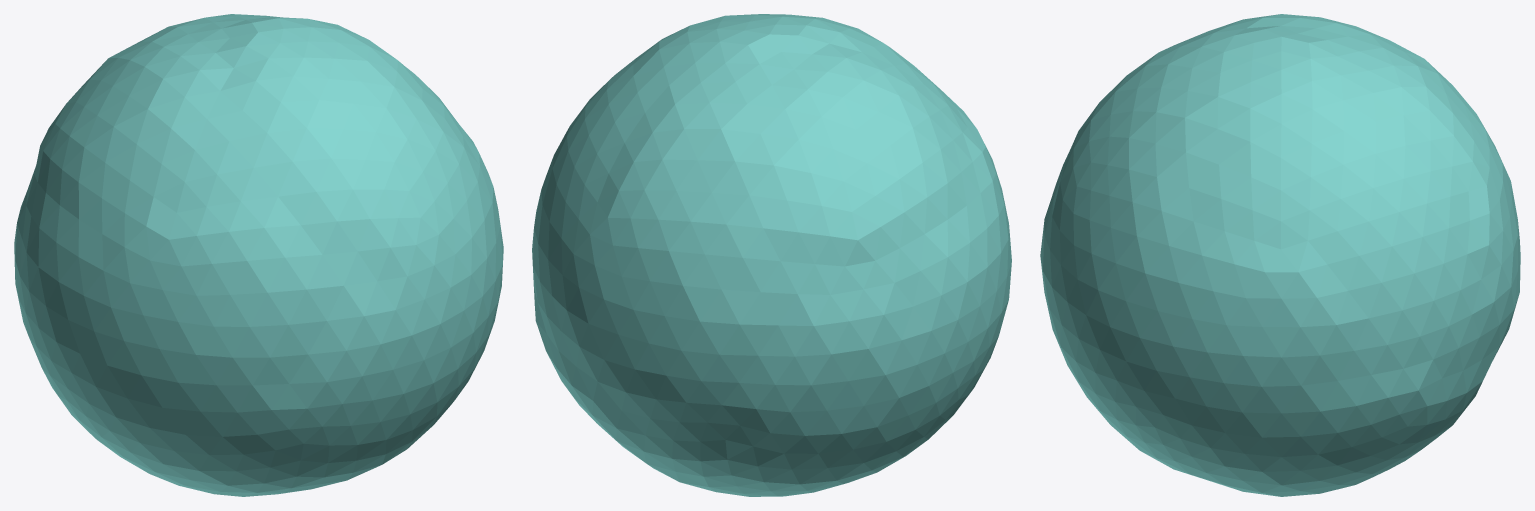
File: UranusLowPoly.fbx
3 views of the same model, side by side, from view 1: azimuth 30°, elevation 25°; view 2: azimuth 150°, elevation 25°; view 3: azimuth 270°, elevation 25° (orthographic).
Parts seen in each view (by area): view 1: Icosphere; view 2: Icosphere; view 3: Icosphere.
Boxes of the visible parts, x1=… form: Icosphere: x1=14, y1=14, x2=503, y2=496; Icosphere: x1=532, y1=14, x2=1011, y2=496; Icosphere: x1=1040, y1=14, x2=1520, y2=496.
Bounding box in the file's own units: 1021 × 1021 × 1017.
